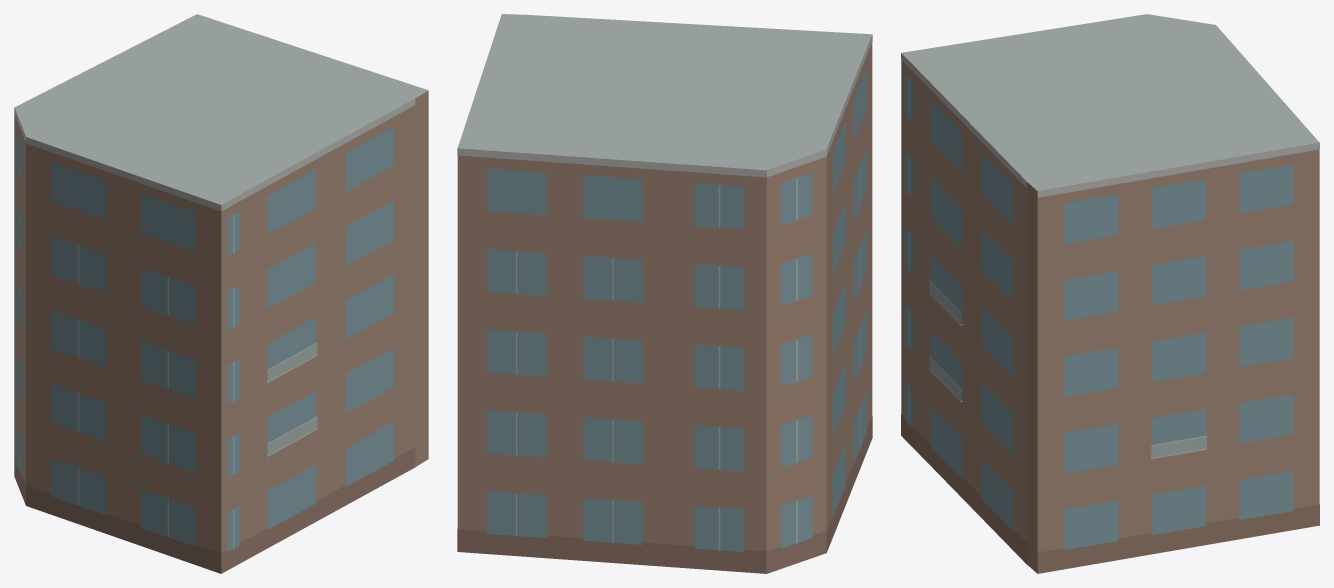
File: survey-upis-32631297.glb
3 renders of one model, left to right at view 1: azimuth 30°, elevation 25°; view 2: azimuth 150°, elevation 25°; view 3: azimuth 270°, elevation 25°, orthographic. The views are drawn at different scales.
Parts seen in each view (by area): view 1: survey-upis-32631297.tmp; view 2: survey-upis-32631297.tmp; view 3: survey-upis-32631297.tmp.
Boxes of the visible parts, x1,y1,x2,y2 form: survey-upis-32631297.tmp: (14,14,428,573); survey-upis-32631297.tmp: (457,14,872,573); survey-upis-32631297.tmp: (901,14,1319,573).
Bounding box in the file's own units: 13.8 × 13.9 × 13.79.
